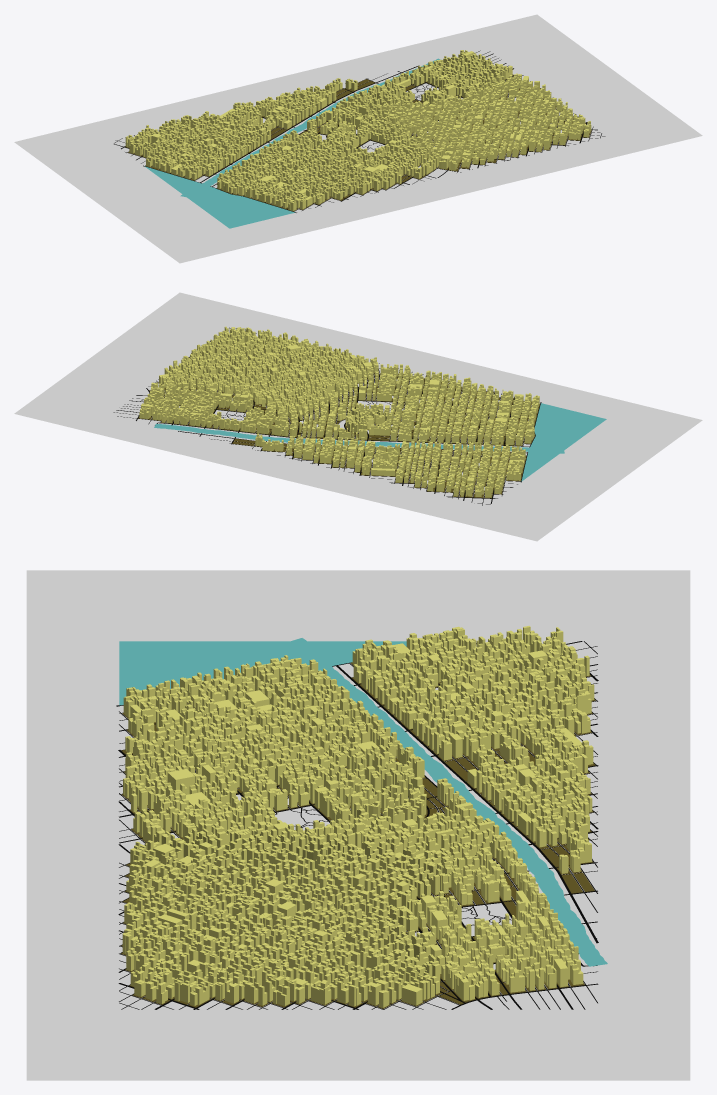
The model's file is MMGhostCameraCity.fbx.
3 renders of one model, top to bottom at view 1: azimuth 30°, elevation 25°; view 2: azimuth 150°, elevation 25°; view 3: azimuth 270°, elevation 25°, orthographic. The views are drawn at different scales.
Visible parts, largest first — view 1: domain, buildings, sea, blocks, roads, river; view 2: domain, buildings, blocks, sea, roads, river; view 3: domain, buildings, sea, river, blocks, roads.
Part boxes in pixels (x1=…): domain: x1=14, y1=14, x2=702, y2=263; buildings: x1=125, y1=50, x2=591, y2=210; sea: x1=144, y1=166, x2=294, y2=228; blocks: x1=125, y1=74, x2=591, y2=211; roads: x1=114, y1=50, x2=605, y2=212; river: x1=180, y1=58, x2=440, y2=197; domain: x1=14, y1=292, x2=702, y2=541; buildings: x1=139, y1=326, x2=539, y2=497; blocks: x1=138, y1=371, x2=539, y2=498; sea: x1=521, y1=403, x2=606, y2=481; roads: x1=113, y1=327, x2=541, y2=505; river: x1=154, y1=423, x2=564, y2=453; domain: x1=26, y1=570, x2=690, y2=1080; buildings: x1=122, y1=625, x2=594, y2=1007; sea: x1=119, y1=641, x2=406, y2=705; river: x1=286, y1=638, x2=607, y2=966; blocks: x1=121, y1=662, x2=595, y2=1008; roads: x1=116, y1=641, x2=598, y2=1009.
Bounding box in the file's own units: 4327 × 80 × 2376.
